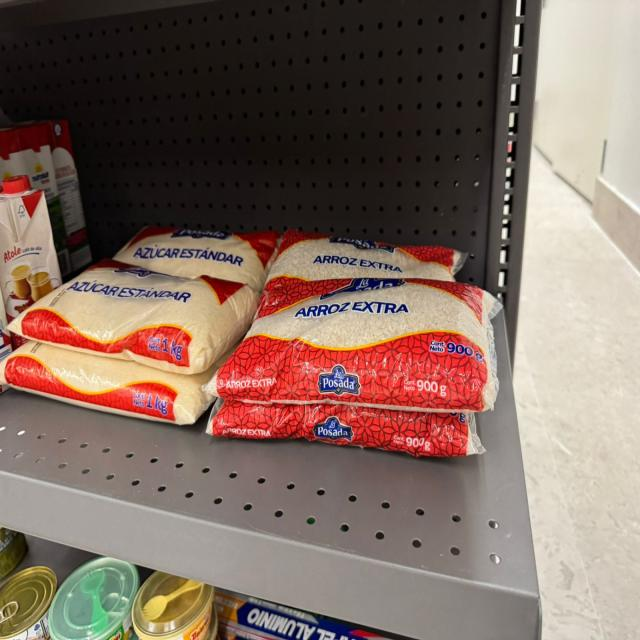ATUN DOLORES EN ACEITE 130GRS: (0, 527, 28, 580)
Arroz La Posada 900 gr: (203, 276, 502, 413), (206, 397, 485, 457), (263, 231, 464, 293)
Atun Mazatun Agua Sin Soya 130grs: (0, 566, 57, 639)
Azucar Estandar La Posada 1 kg: (10, 260, 259, 375), (0, 342, 237, 425), (114, 227, 280, 293)
CARNATION Leche Evaporada 720g: (0, 175, 61, 323)
DOLORES ENSALADA CON VERDURAS MAXI CUP CAN 240gr: (50, 557, 139, 639)
Dolores SURFY Cup Can Elotitos 24135 gr: (132, 571, 217, 639)
PLC NUTRALAT FORTE 1 LT: (0, 121, 72, 274), (49, 121, 91, 272)
Papel aluminio festivo rollo 76 m X 30 cm pz: (214, 589, 387, 639)
